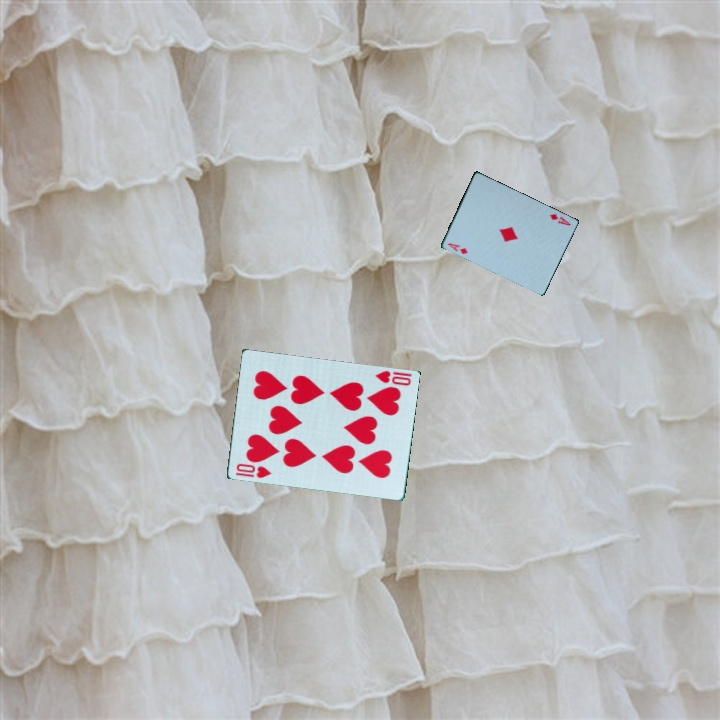10h: (371, 367, 414, 389), (232, 460, 274, 481)
Ad: (444, 239, 471, 257), (546, 210, 573, 228)
